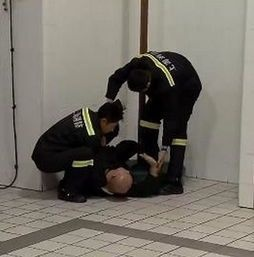falling: (78, 135, 173, 199)
